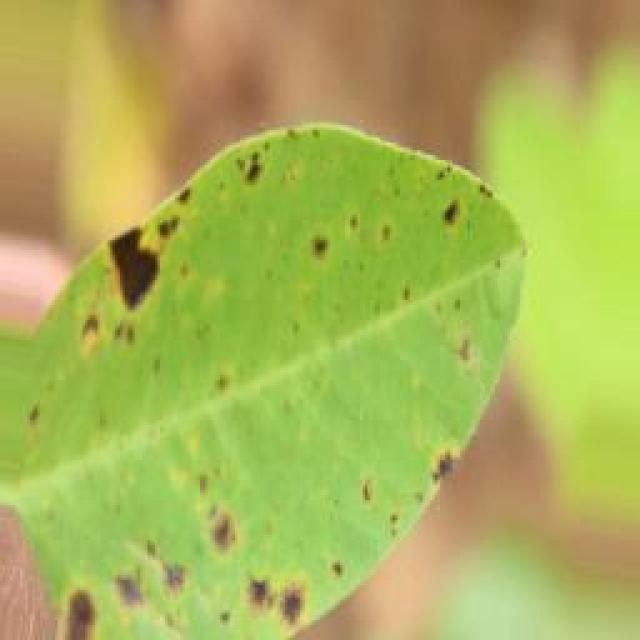Yellowish: (104, 128, 512, 616)
